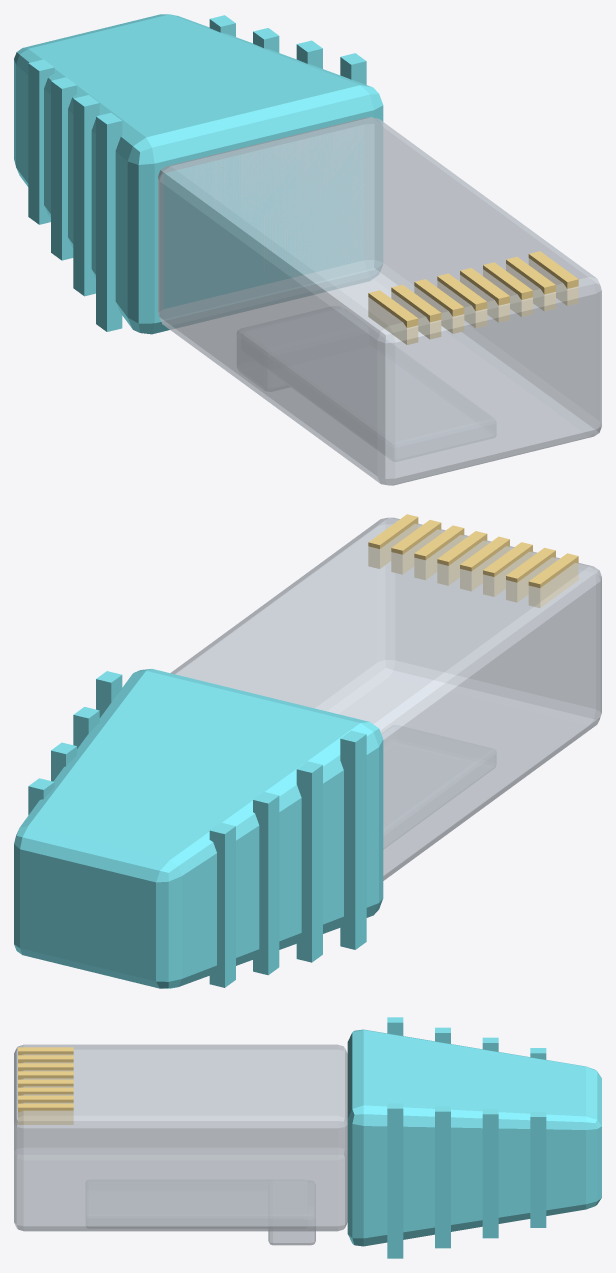
Rendered from rj45-plug.glb.
The picture shows the model from 3 angles, top to bottom: view 1: azimuth 30°, elevation 25°; view 2: azimuth 150°, elevation 25°; view 3: azimuth 270°, elevation 25°; orthographic projection. The views are drawn at different scales.
Parts seen in each view (by area): view 1: rj45-plug; view 2: rj45-plug; view 3: rj45-plug.
Boxes of the visible parts, bbox=[...] form: rj45-plug: bbox=[14, 14, 601, 485]; rj45-plug: bbox=[14, 514, 601, 988]; rj45-plug: bbox=[14, 1017, 601, 1258].
Bounding box in the file's own units: 0.3676 × 0.3108 × 1.
